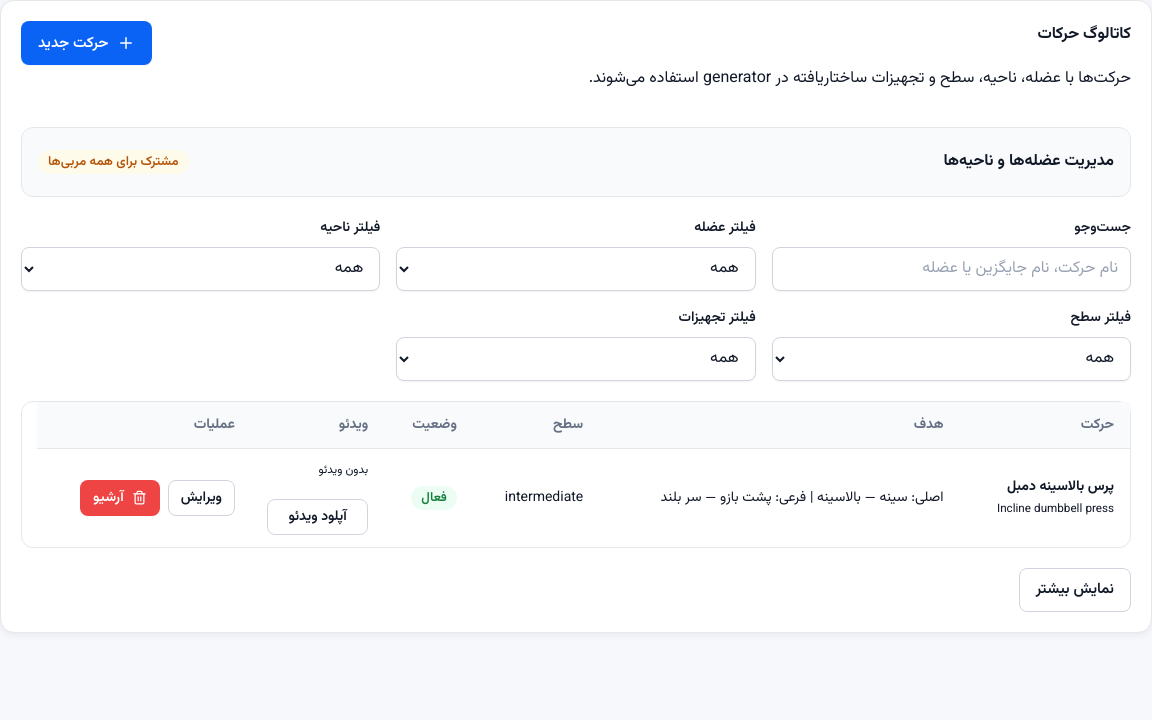
StructuredCatalogSection › keeps the first page visible when loading the next page fails
Click the button "نمایش بیشتر". click: [1075, 590]
box: 1019,568 -> 1131,612
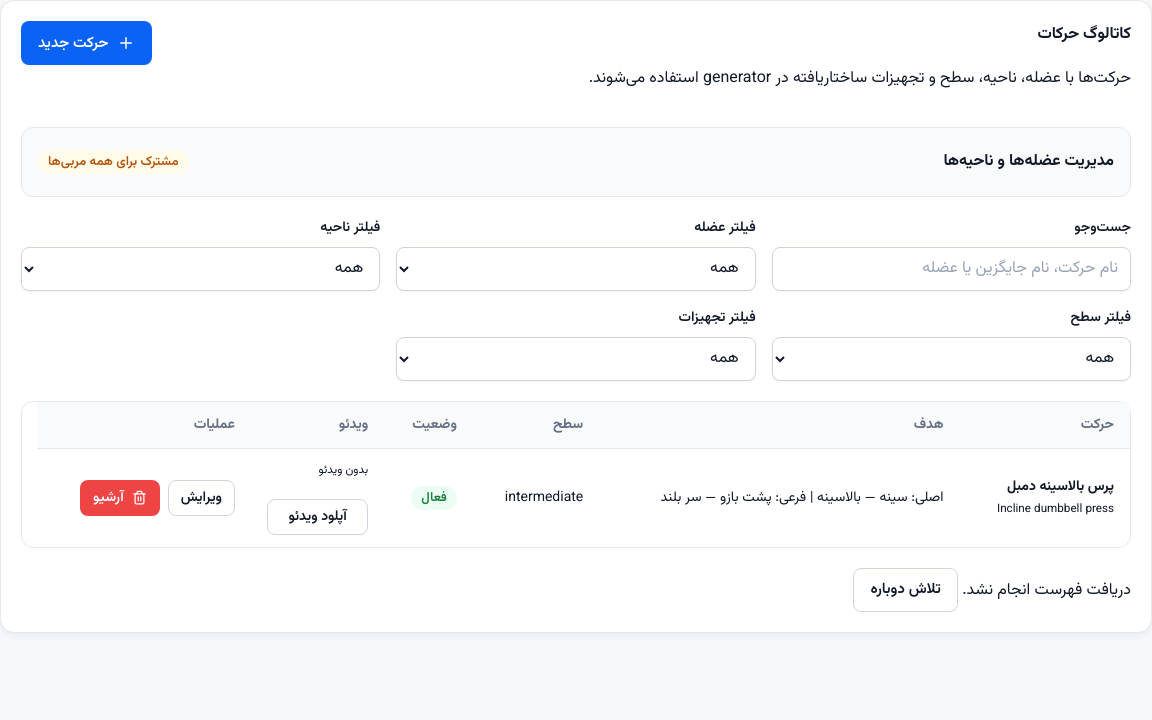
Expected: the table named "کاتالوگ حرکات" is shown, 37,402 -> 1130,547
Expected: the message shows "دریافت فهرست انجام نشد.", 962,577 -> 1131,602
